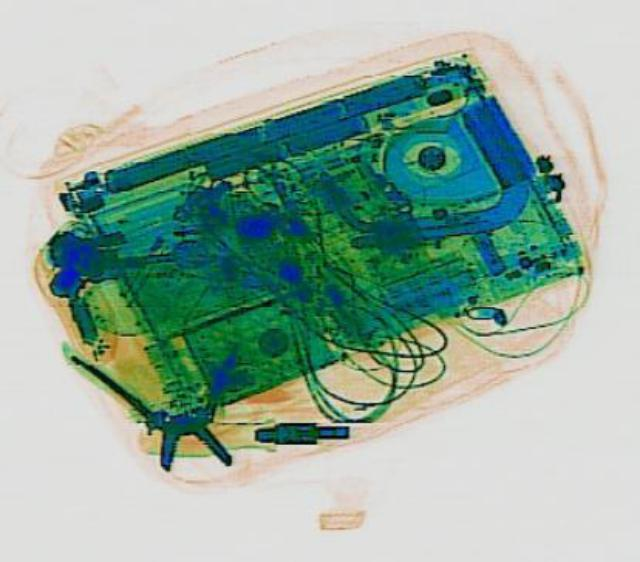Pliers: (68, 324, 266, 485)
